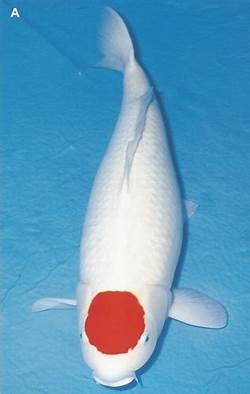sun: (32, 4, 227, 387)
